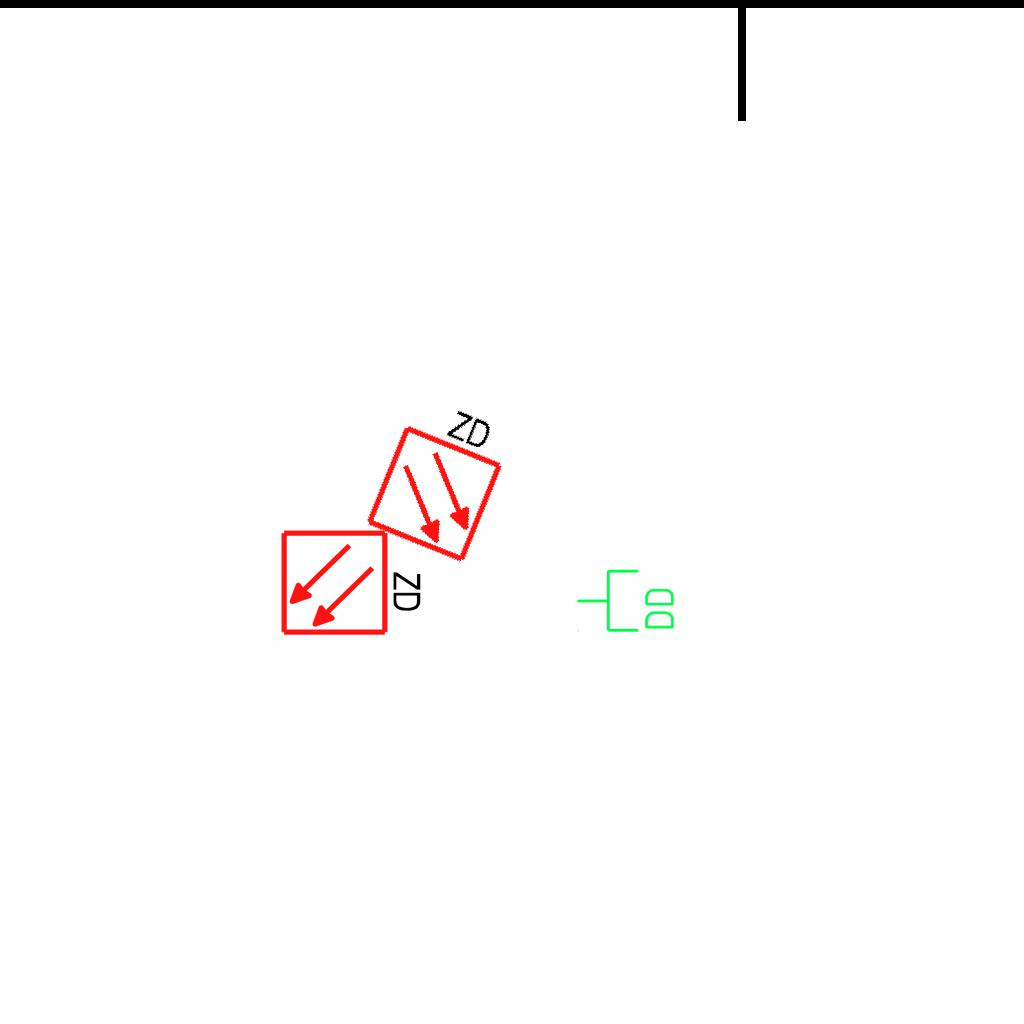Datenanschluss_zweifach: (575, 567, 678, 636)
ZD_Melder_in_Zwischendecke_mit_Revisionsoeffnung_mind_40_x_40_cm: (359, 385, 521, 566), (279, 524, 428, 638)
